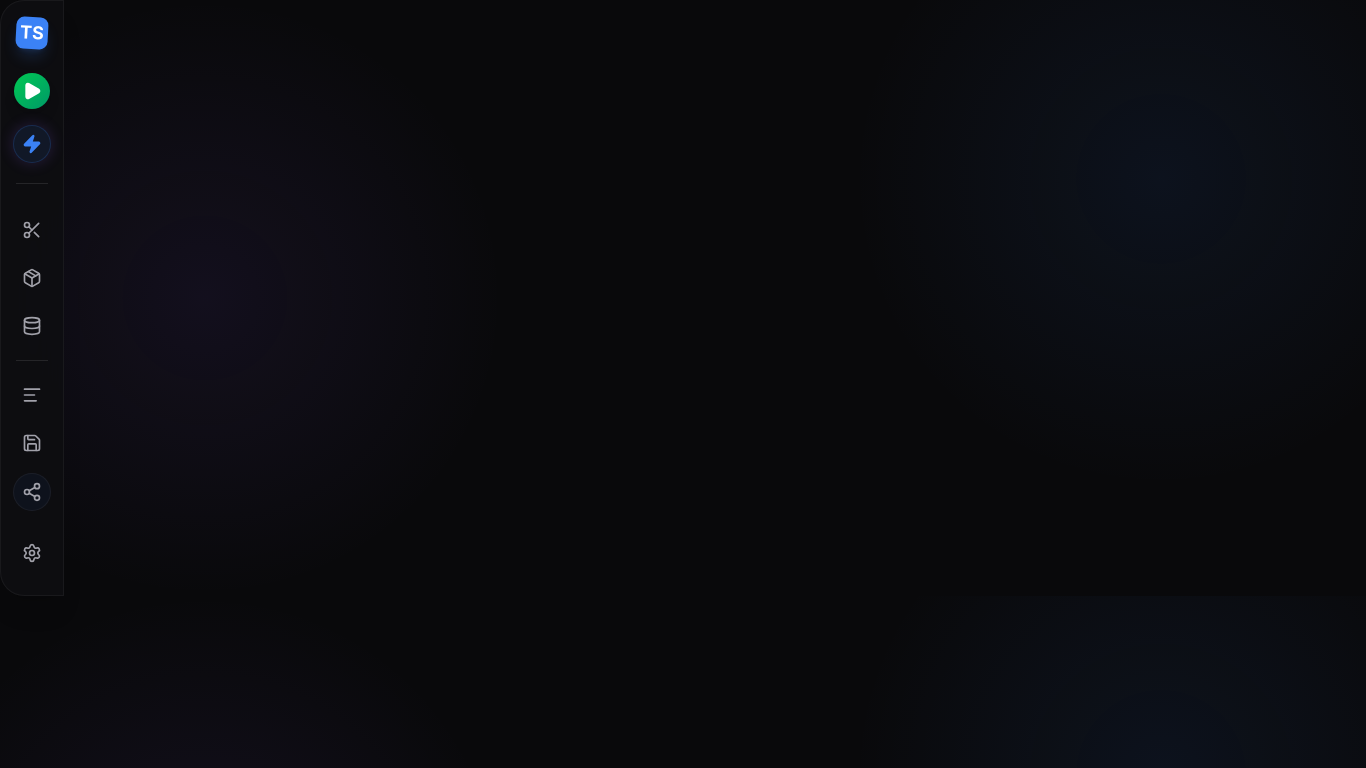
Test: Sidebar Component › toggles package popover when package icon is clicked
Click the button titled "Packages".
click(32, 278)  # box [14,260,50,296]
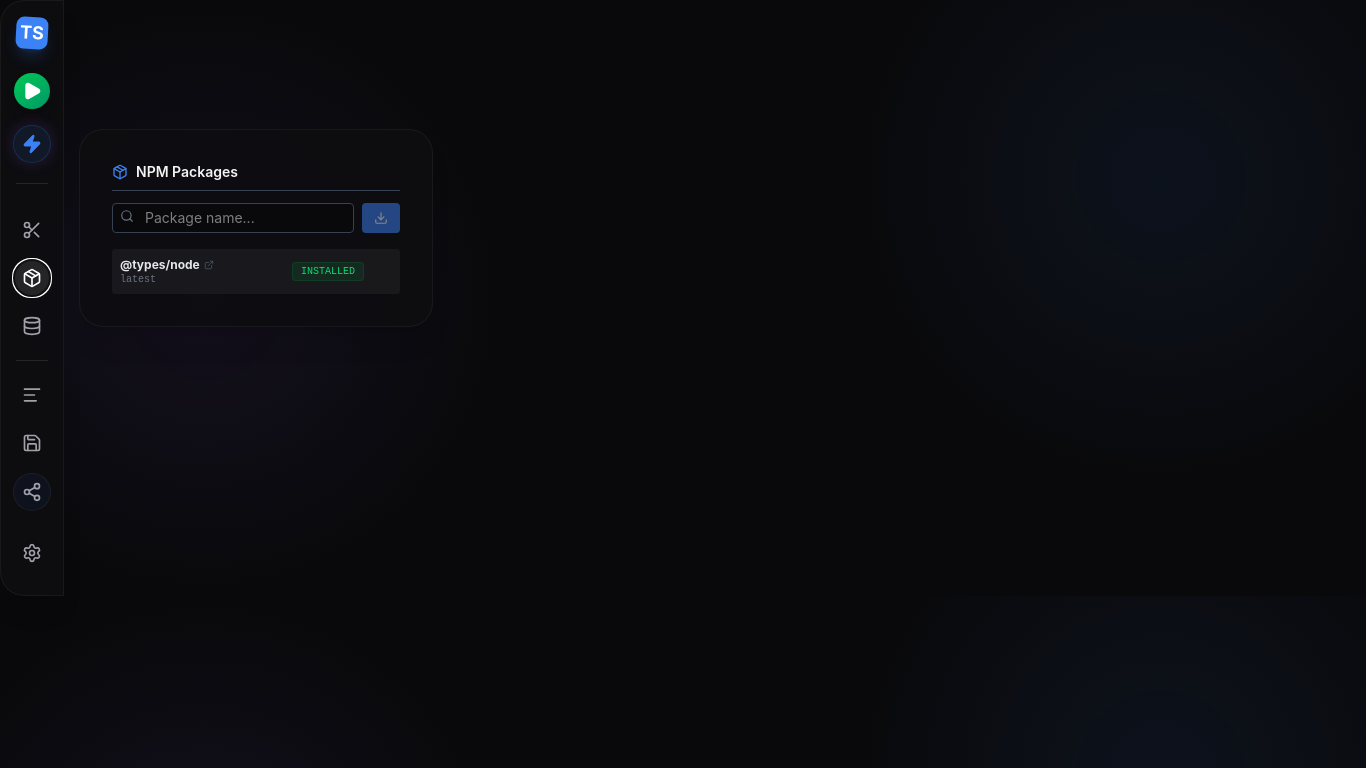
Result: the heading "NPM Packages" is shown at [112,162,400,191]
